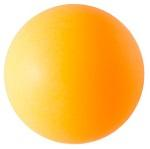oball: (3, 0, 150, 148)
